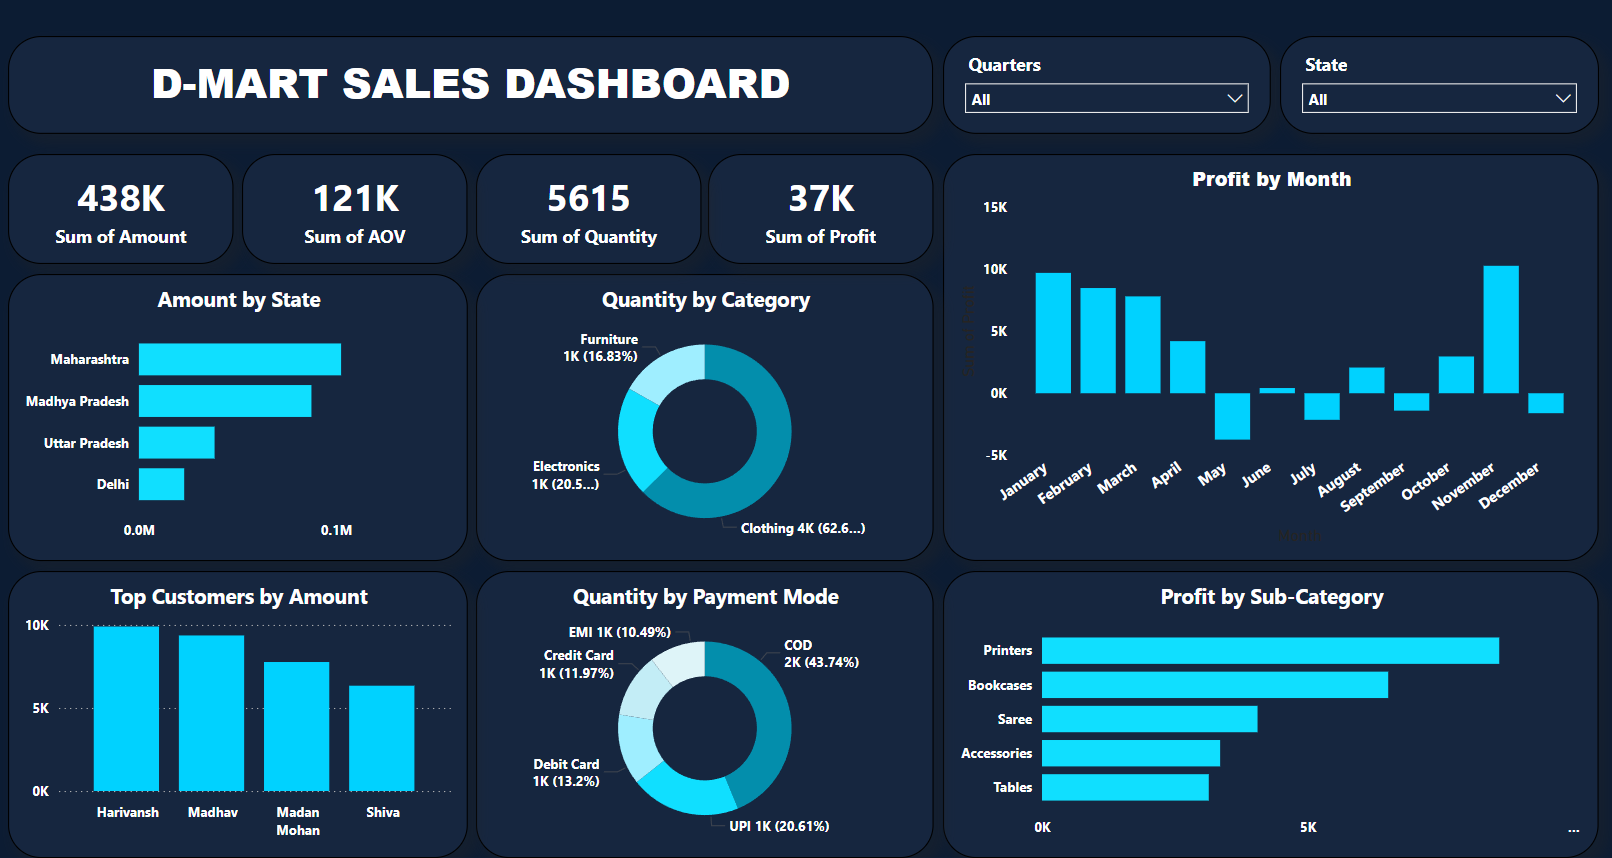

This screenshot's page, from the dashboard's own definition file:
{"tool":"powerbi","page":{"name":"Page 1","canvas":[1470,800],"ordinal":0},"visuals":[{"type":"textbox","box":[10,34,841,89],"z":0},{"type":"columnChart","title":"Profit by Month","fields":{"Category":["Orders.Order Date.Variation.Date Hierarchy.Month"],"Y":["Sum(Details.Profit)"]},"box":[860,141,596,370],"z":1000},{"type":"barChart","title":"Profit by Sub-Category","fields":{"Y":["Sum(Details.Profit)"],"Category":["Details.Sub-Category"]},"box":[860,520,596,261],"z":2000},{"type":"donutChart","title":" Quantity by Category","fields":{"Category":["Details.Category"],"Y":["Sum(Details.Quantity)"]},"box":[435,250,416,261],"z":3000},{"type":"donutChart","title":"Quantity by Payment Mode","fields":{"Category":["Details.PaymentMode"],"Y":["Sum(Details.Quantity)"]},"box":[435,520,416,261],"z":4000},{"type":"card","title":"Quantity by Payment Mode","fields":{"Values":["Sum(Details.Amount)"]},"box":[10,141,205,100],"z":5000},{"type":"card","title":"Quantity by Payment Mode","fields":{"Values":["Sum(Details.Profit)"]},"box":[646,141,205,100],"z":6000},{"type":"card","title":"Quantity by Payment Mode","fields":{"Values":["Sum(Details.Quantity)"]},"box":[435,141,205,100],"z":7000},{"type":"card","title":"Quantity by Payment Mode","fields":{"Values":["Sum(Details.AOV)"]},"box":[223,141,205,100],"z":8000},{"type":"barChart","title":"Amount by State","fields":{"Y":["Sum(Details.Amount)"],"Category":["Orders.State"]},"box":[10,250,418,261],"z":9000},{"type":"columnChart","title":"Top Customers by Amount","fields":{"Category":["Orders.CustomerName"],"Y":["Sum(Details.Amount)"]},"box":[10,520,418,261],"z":10000},{"type":"multiRowCard","box":[1606,140,300,300],"z":11000},{"type":"slicer","title":"Quantity by Payment Mode","fields":{"Values":["Orders.Order Date.Variation.Date Hierarchy.Quarter"]},"box":[860,34,298,89],"z":12000},{"type":"slicer","title":"Quantity by Payment Mode","fields":{"Values":["Orders.State"]},"box":[1166,34,290,89],"z":13000}]}

Visuals, with their boxes in screenshot pixels (x1, y1, x2, y2), scaled from the page's 1470x800 canvas onto the 1612x858 screenshot:
textbox: [11,36,933,132]
"Profit by Month" columnChart: [943,151,1597,548]
"Profit by Sub-Category" barChart: [943,558,1597,838]
" Quantity by Category" donutChart: [477,268,933,548]
"Quantity by Payment Mode" donutChart: [477,558,933,838]
"Quantity by Payment Mode" card: [11,151,236,258]
"Quantity by Payment Mode" card: [708,151,933,258]
"Quantity by Payment Mode" card: [477,151,702,258]
"Quantity by Payment Mode" card: [245,151,469,258]
"Amount by State" barChart: [11,268,469,548]
"Top Customers by Amount" columnChart: [11,558,469,838]
"Quantity by Payment Mode" slicer: [943,36,1270,132]
"Quantity by Payment Mode" slicer: [1279,36,1597,132]
